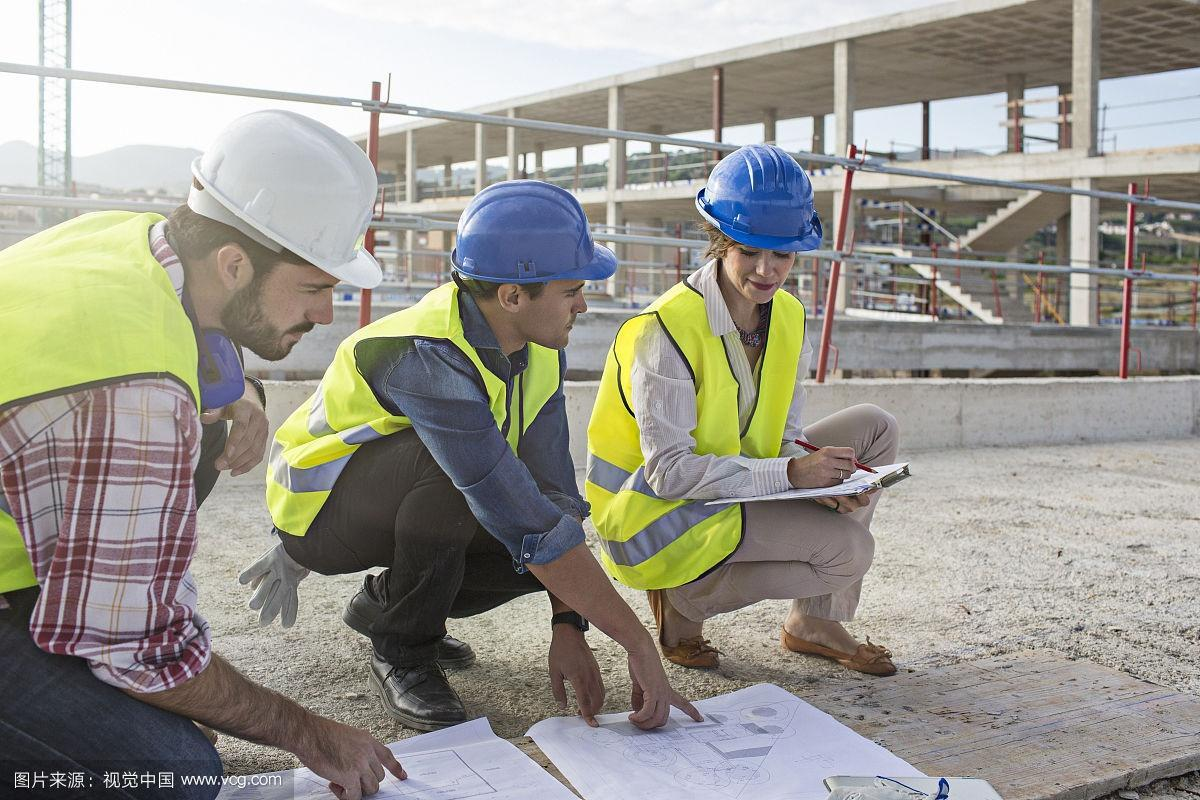helmet: (194, 102, 390, 282), (445, 185, 621, 280), (708, 140, 821, 262)
person: (3, 109, 388, 800), (259, 172, 666, 732), (591, 125, 922, 685)
vest: (597, 284, 800, 567)
